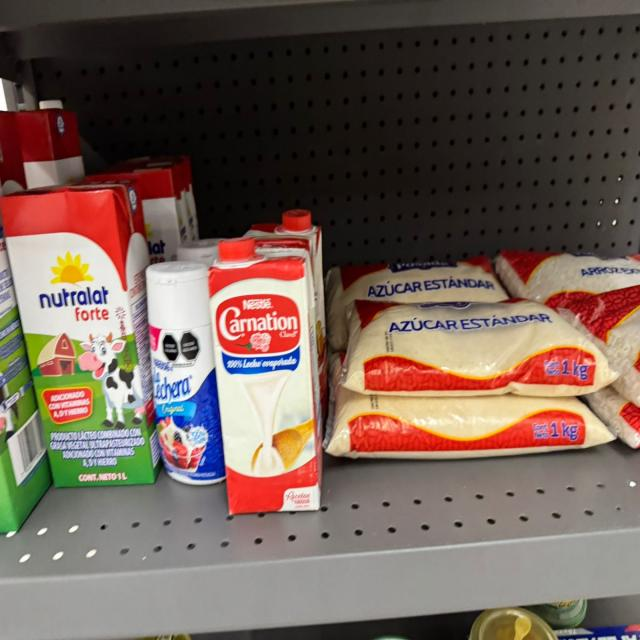Arroz La Posada 900 gr: (562, 282, 640, 410), (491, 247, 640, 308), (580, 383, 640, 451)
Azucar Estandar La Posada 1 kg: (323, 349, 616, 458), (339, 296, 633, 397), (325, 256, 508, 352)
CARNATION Leche Evaporada 720g: (207, 237, 325, 514), (242, 208, 328, 433)
Dolores SURFY Cup Can Elotitos 24135 gr: (469, 607, 557, 639)
Ensalada Atun Mazatun CupCan: (528, 600, 587, 629)
La Lechera Sirve Facil 335gr Bote: (146, 259, 230, 487), (177, 237, 229, 270)
PLC NUTRALAT FORTE 1 LT: (1, 179, 164, 492), (81, 158, 201, 264)
PLC NUTRALAT FORTE 1.5 LT: (0, 123, 58, 535), (15, 97, 87, 190)
Papel aluminio festivo rollo 76 m X 30 cm pz: (556, 624, 640, 639)
